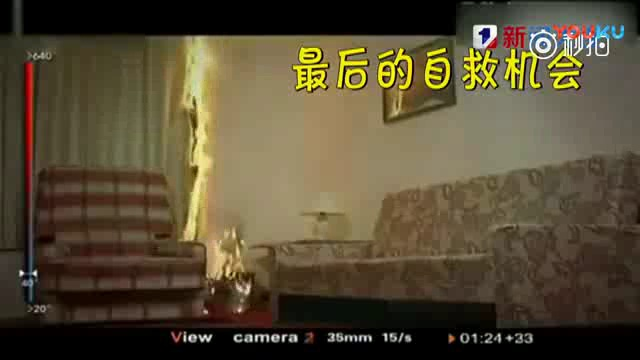fire: (178, 38, 211, 242), (217, 225, 256, 289)
